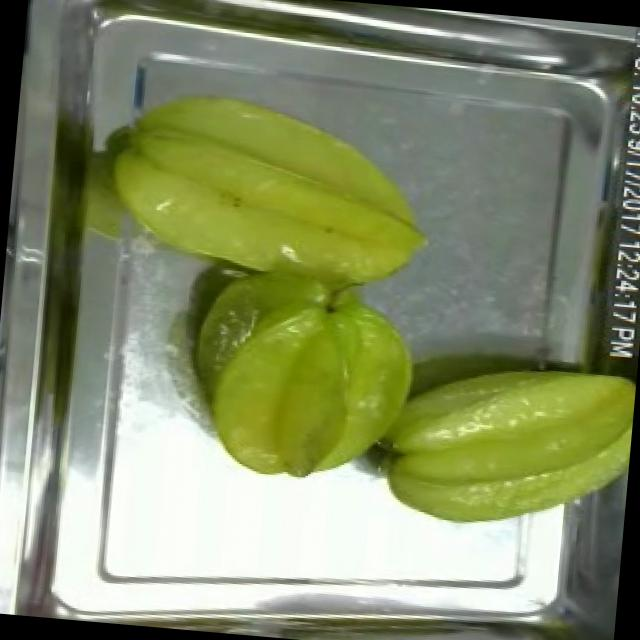fruit: (83, 70, 449, 304), (174, 267, 435, 499), (370, 338, 638, 543)
